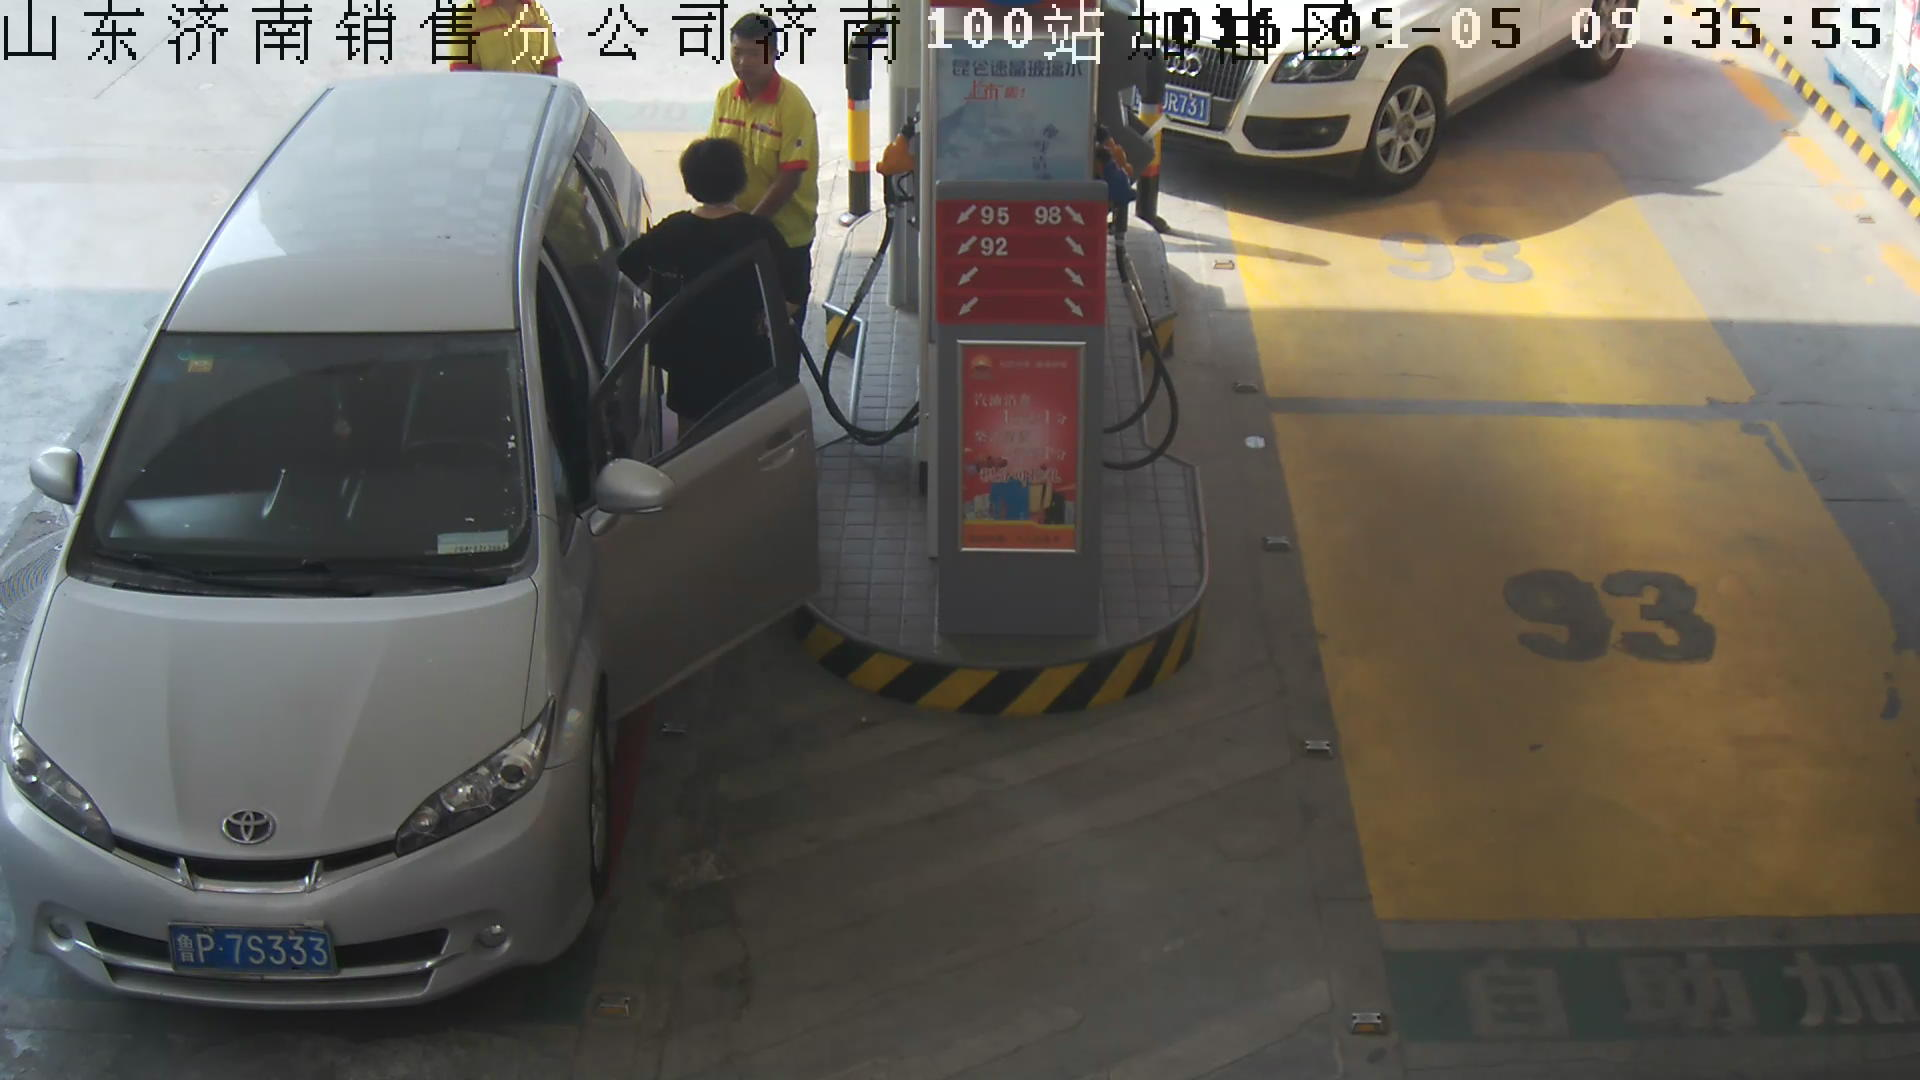blue: (166, 922, 342, 980)
